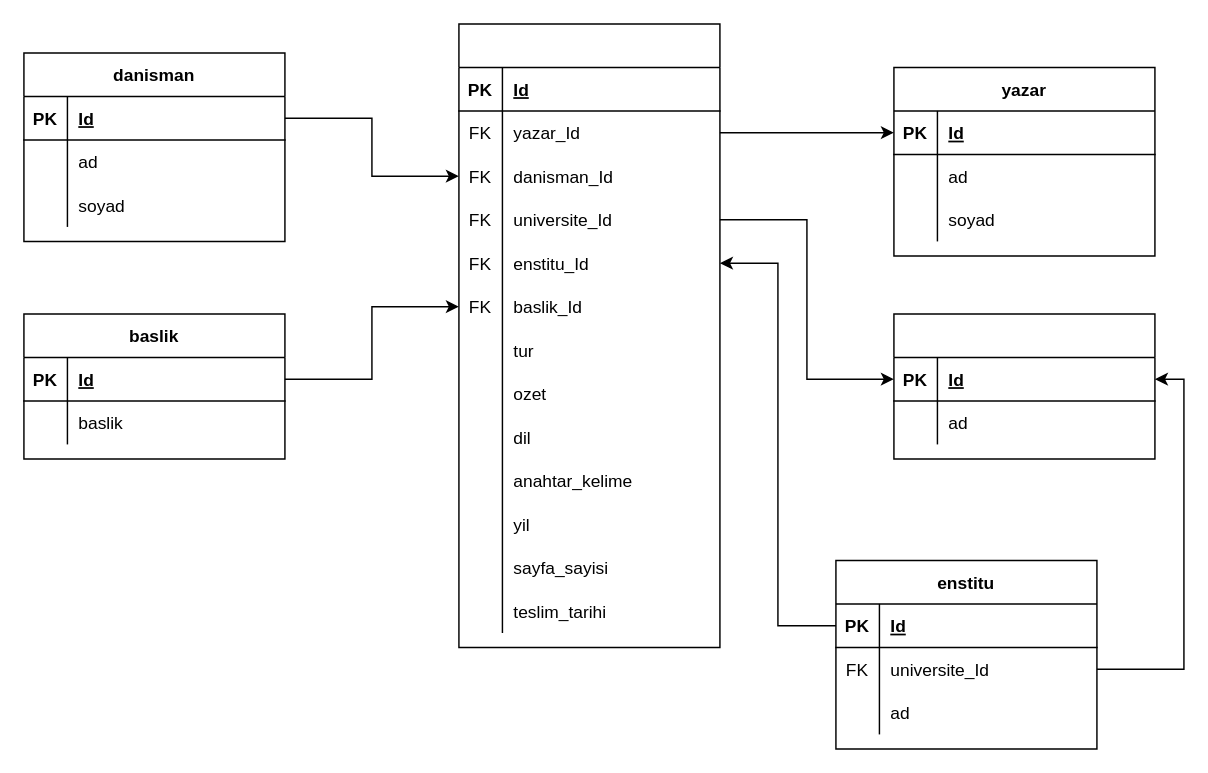
This 1208x773 diagram has some shape labels left out. Each missing label, with the box of its shape:
tez: (457, 22, 720, 647)
universite: (892, 312, 1155, 459)
